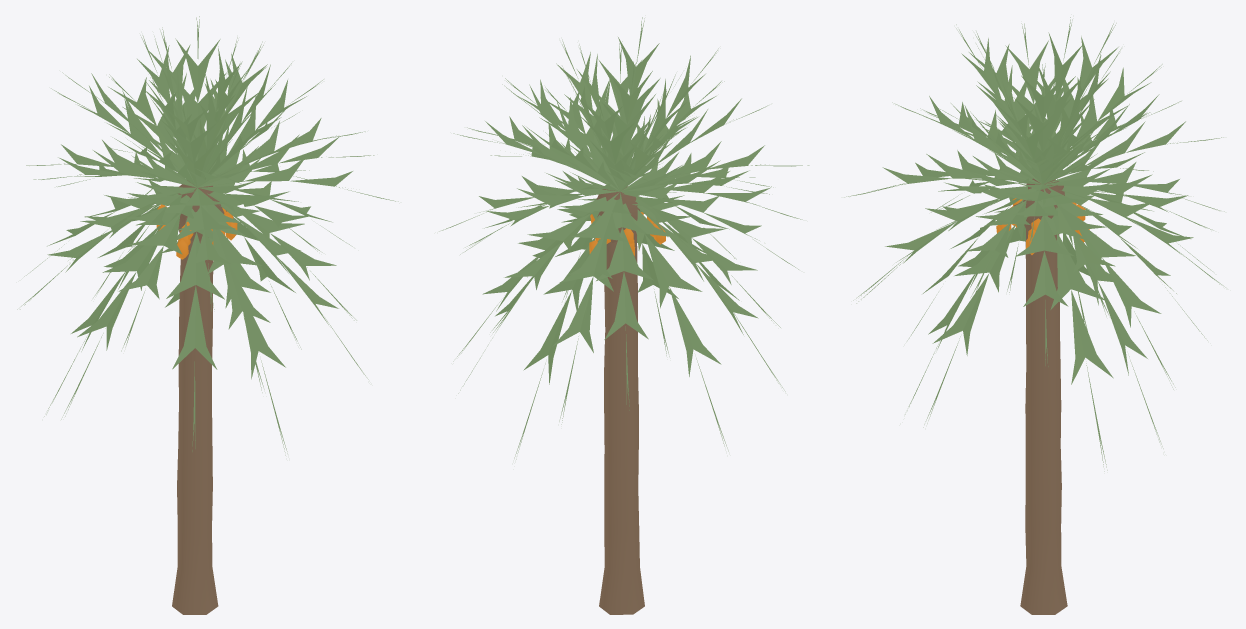
File: Blender_DatePalm_1_Far.glb
3 views of the same model, side by side, from view 1: azimuth 30°, elevation 25°; view 2: azimuth 150°, elevation 25°; view 3: azimuth 270°, elevation 25° (orthographic). The views are drawn at different scales.
Visible parts, largest first — view 1: Blender_DatePalm_1_Far; view 2: Blender_DatePalm_1_Far; view 3: Blender_DatePalm_1_Far.
Part boxes in pixels (x1,y1,x2,y2): Blender_DatePalm_1_Far: (17,16,398,614); Blender_DatePalm_1_Far: (439,17,809,614); Blender_DatePalm_1_Far: (844,17,1225,614).
Size of the model in its own units: 11.26 by 17.94 by 11.01.
